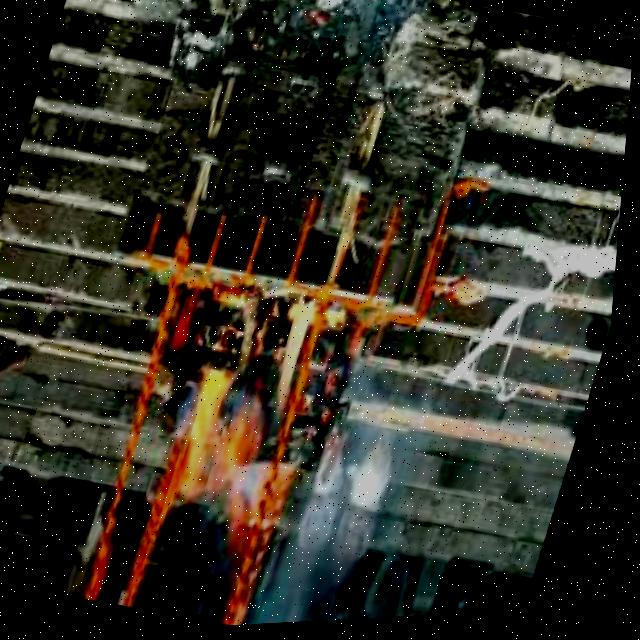Fire: (171, 272, 329, 523)
